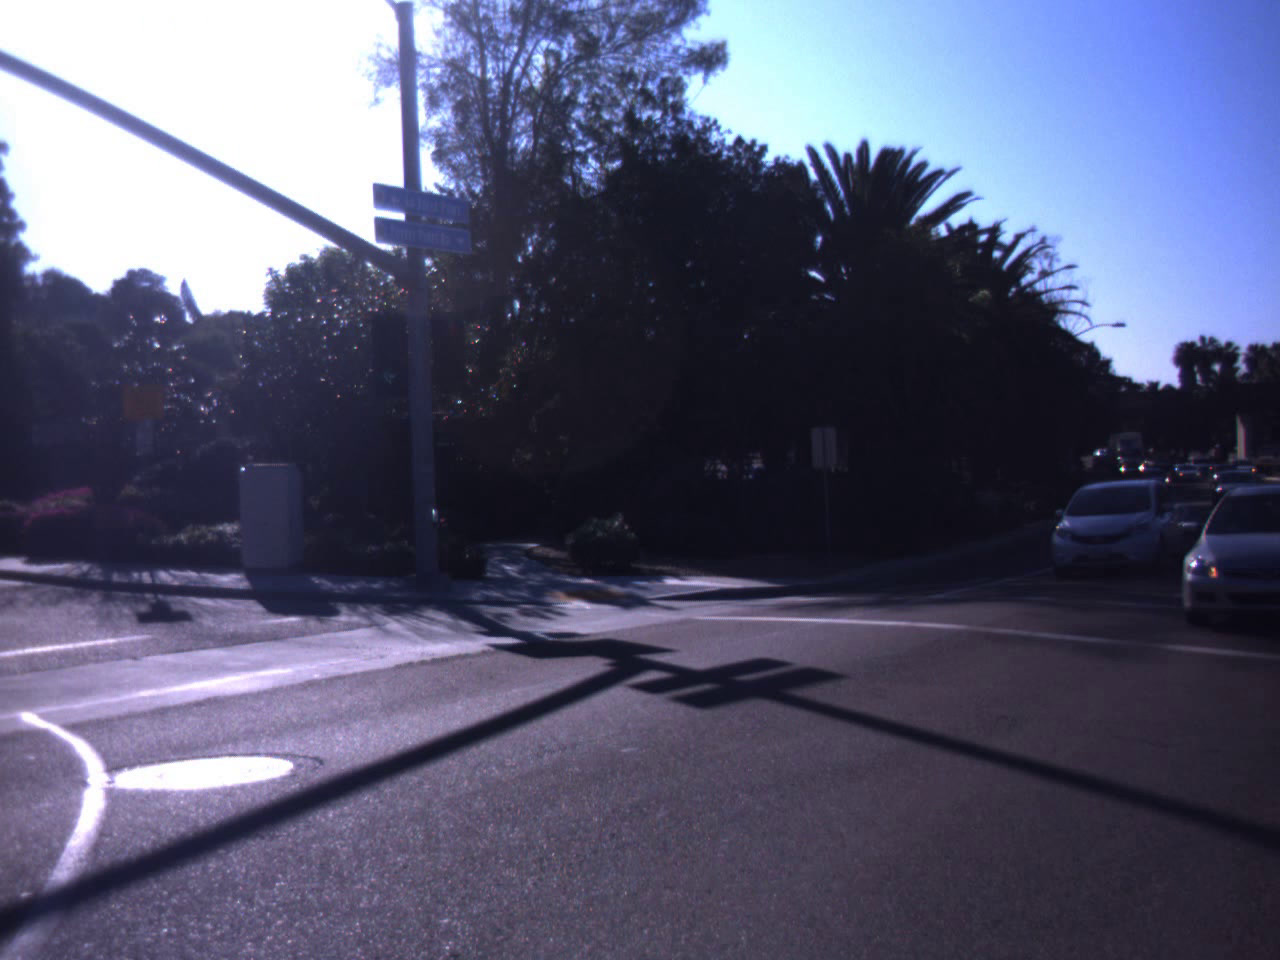go: (356, 307, 422, 392)
